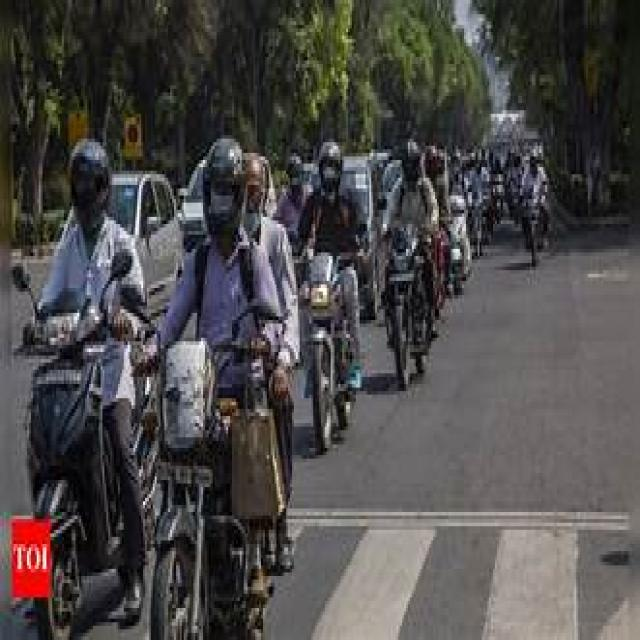Car: (110, 159, 205, 307)
Two Wheeler: (131, 294, 294, 638), (10, 255, 129, 638), (300, 248, 361, 452), (386, 223, 435, 387)
